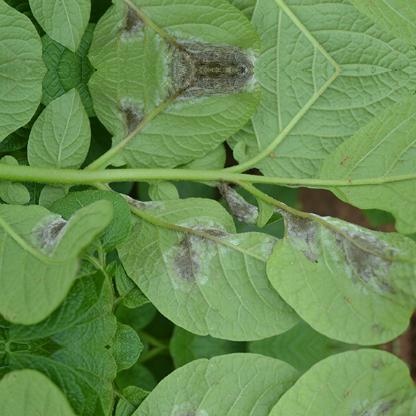Late-Blight: (112, 172, 406, 316), (112, 375, 406, 416), (112, 70, 266, 140), (112, 0, 266, 67), (18, 198, 82, 266)
